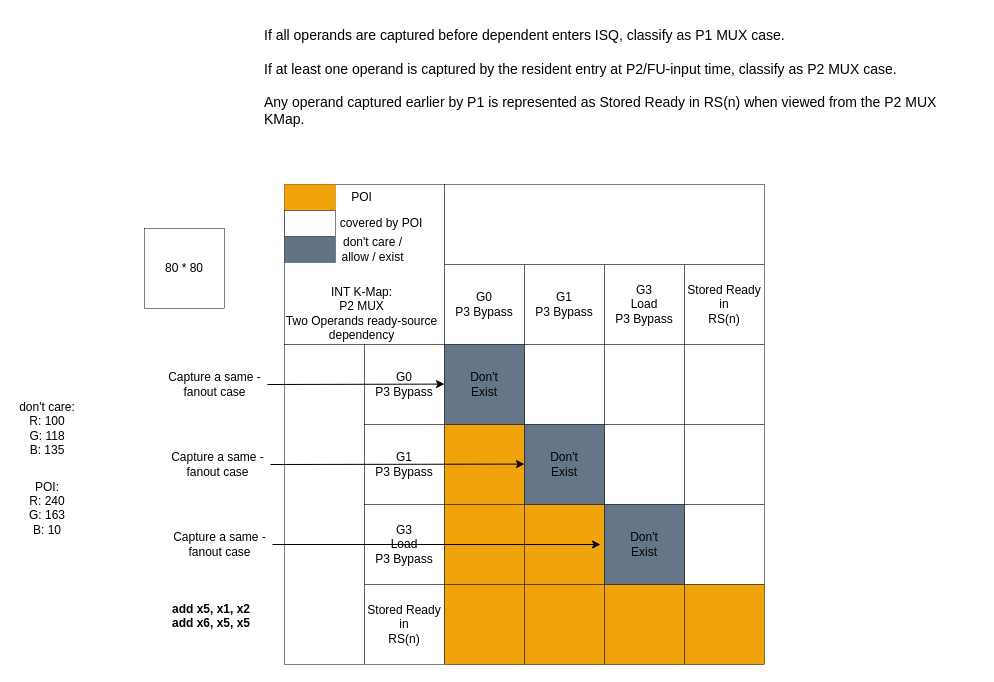
Image size: 994x682. Some labels were removed from this diagram. Each missing label, with the box of its shape:
Data Source 1 ready at P2 MUX: (284, 344, 364, 664)
Data source 2 ready at P2 MUX: (444, 184, 764, 264)
